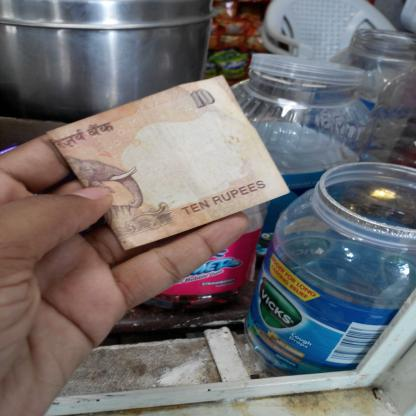Old10Back: (46, 75, 292, 252)
